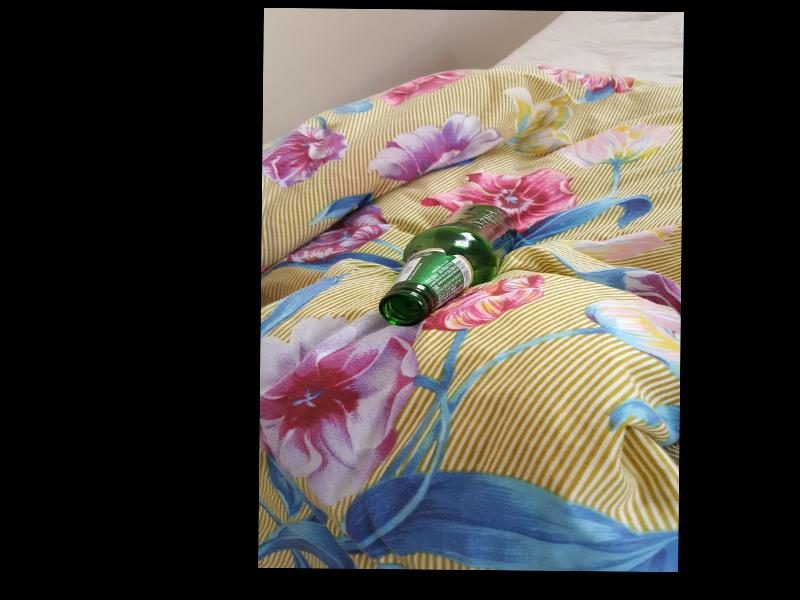Beer: (377, 203, 516, 329)
